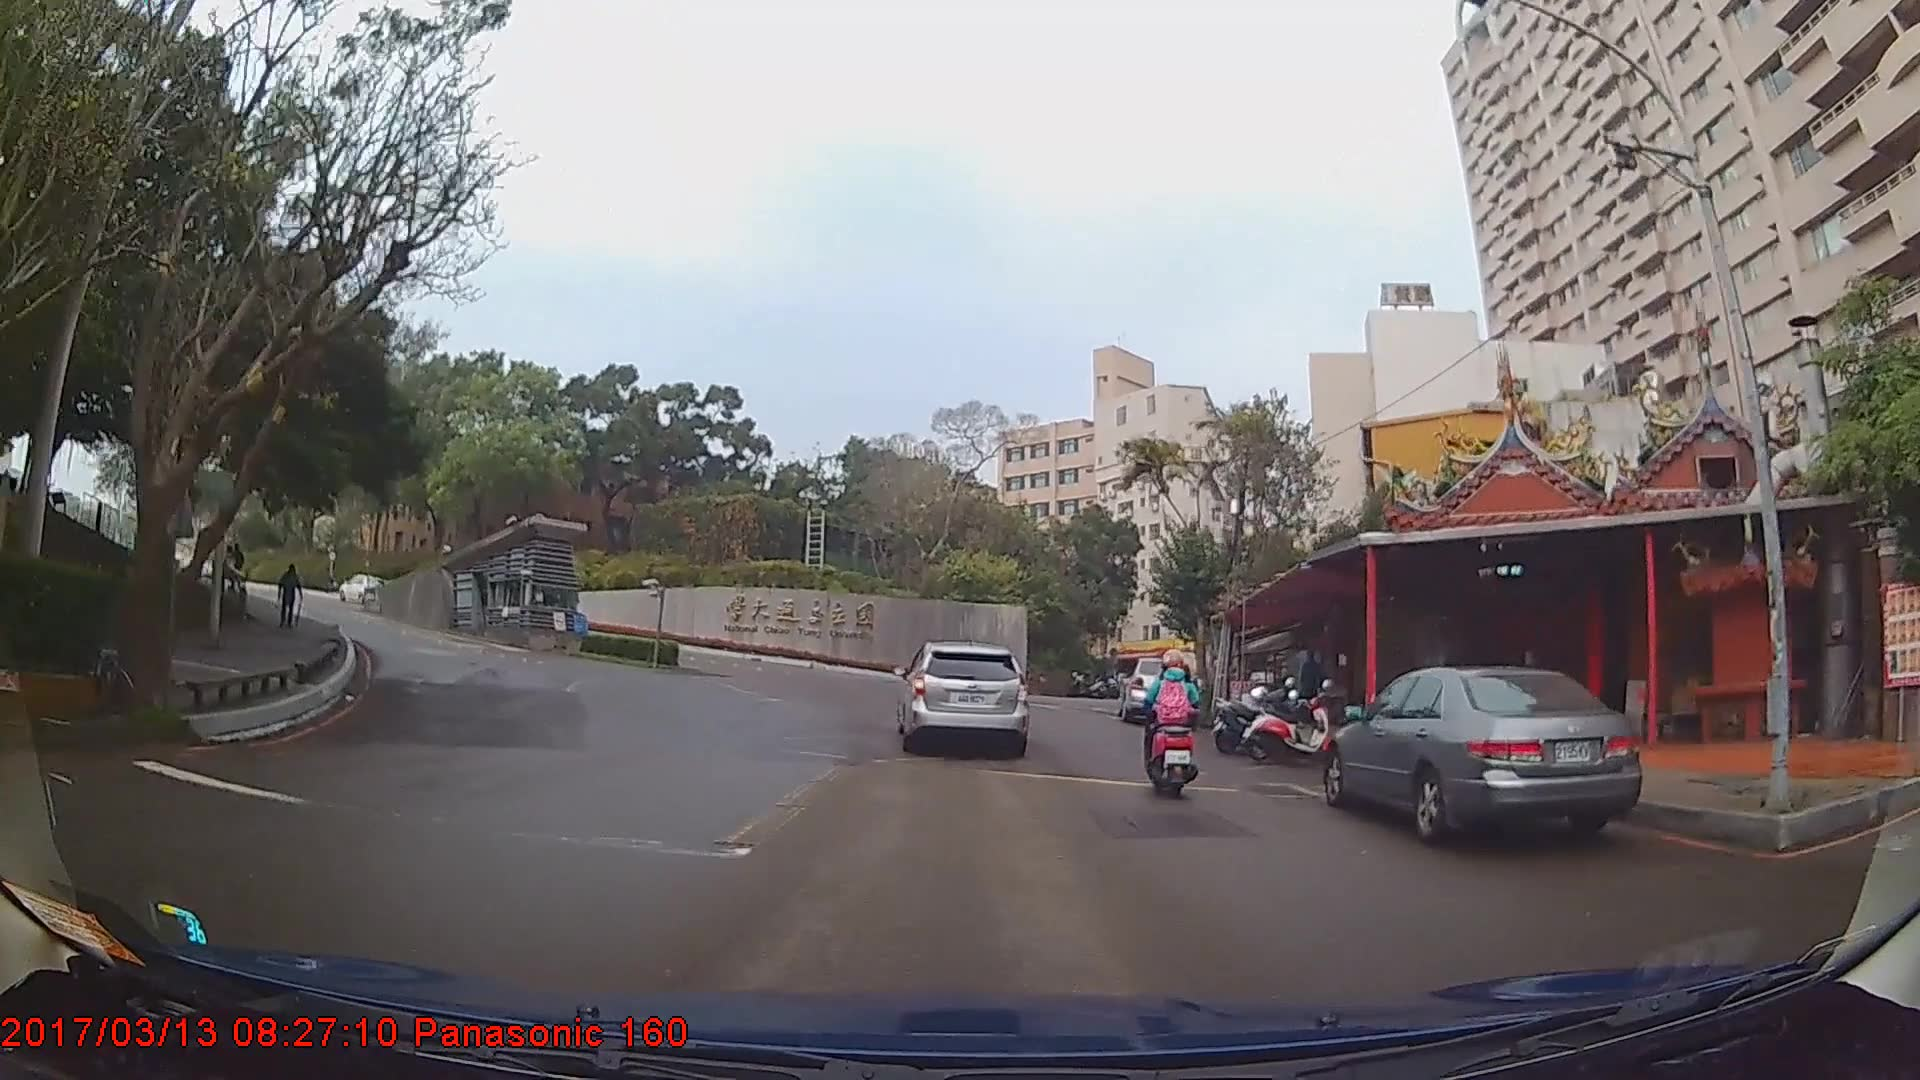pedestrian: (1298, 649, 1328, 733), (279, 565, 306, 630), (228, 543, 250, 600)
rider: (1137, 654, 1207, 811)
vehicle: (1321, 664, 1643, 844), (893, 638, 1026, 754), (1116, 657, 1195, 723), (336, 575, 386, 602)
